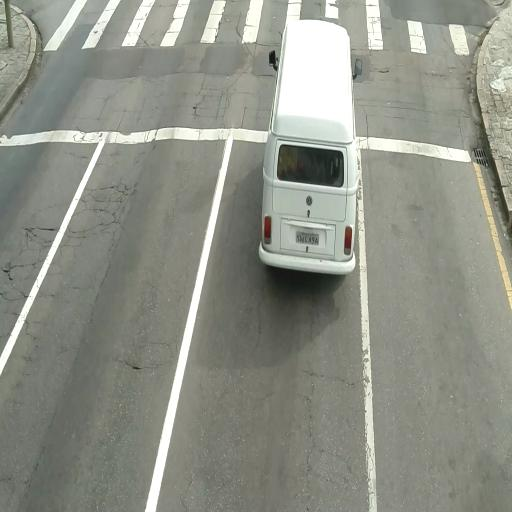car: (254, 16, 364, 288)
